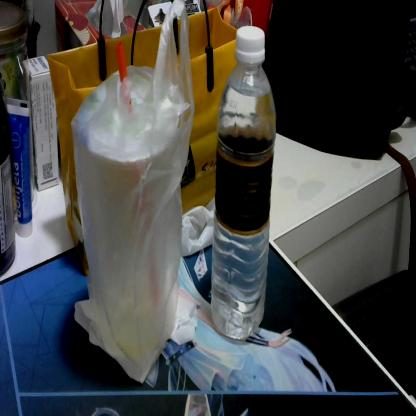plastic_bottles: (210, 25, 276, 341)
